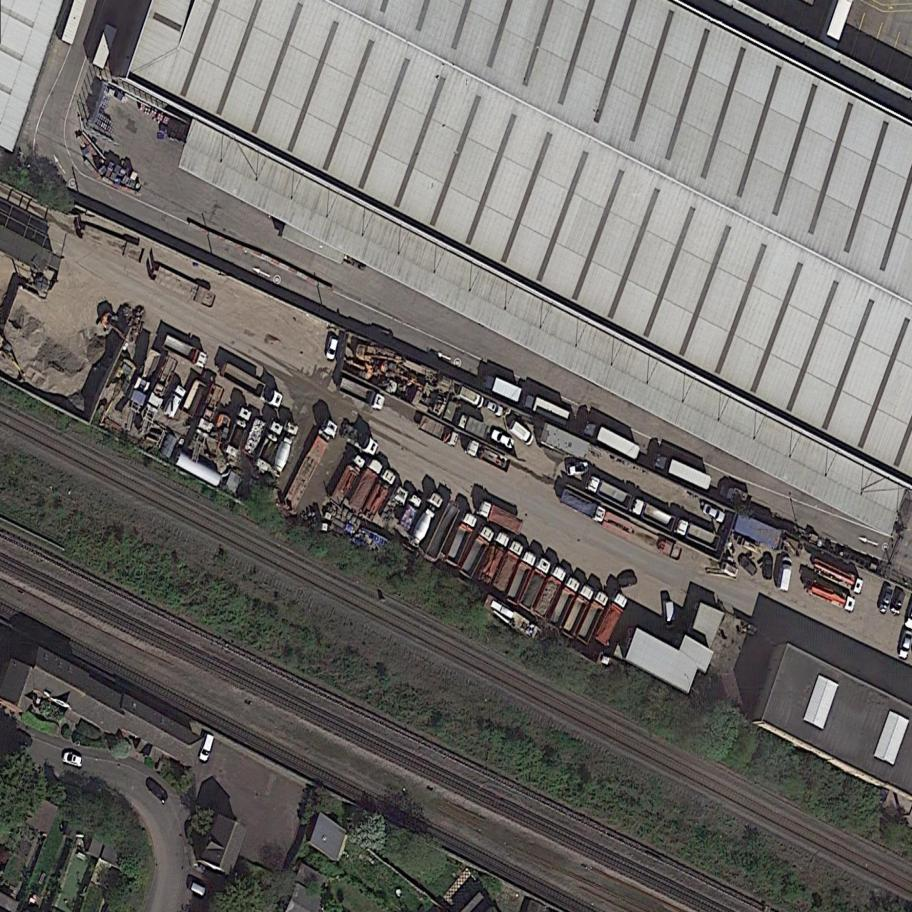large-vehicle: (278, 415, 342, 515), (600, 510, 687, 562), (478, 591, 548, 647), (216, 359, 288, 411), (577, 418, 645, 464), (472, 527, 517, 590), (649, 451, 716, 493), (343, 456, 387, 519), (531, 560, 574, 624), (404, 488, 447, 551), (488, 537, 530, 600), (572, 588, 615, 649), (327, 451, 371, 510), (557, 581, 600, 641), (455, 522, 498, 581), (358, 465, 401, 524), (807, 554, 868, 595), (591, 589, 632, 649), (442, 507, 481, 569), (516, 552, 554, 615), (799, 576, 860, 615), (503, 546, 541, 608), (143, 354, 181, 415), (546, 572, 584, 633), (265, 417, 302, 479), (581, 471, 636, 512), (474, 497, 529, 538), (518, 390, 574, 430), (556, 486, 611, 526), (129, 347, 165, 408), (334, 374, 390, 412), (462, 436, 515, 476), (627, 495, 681, 534), (159, 332, 213, 370), (193, 381, 227, 440), (253, 418, 288, 475), (222, 402, 255, 461), (336, 418, 384, 458), (672, 517, 724, 552), (414, 413, 463, 449), (479, 371, 526, 405), (394, 491, 426, 535), (161, 381, 191, 420), (455, 412, 493, 442), (453, 383, 489, 411)
small-vehicle: (142, 776, 173, 806), (505, 419, 537, 447), (776, 555, 794, 593), (489, 428, 517, 451), (197, 731, 216, 763), (737, 554, 760, 579), (876, 585, 895, 615), (701, 503, 727, 524), (889, 589, 907, 618), (186, 879, 209, 898), (325, 334, 340, 363), (662, 599, 676, 630), (565, 461, 591, 477), (483, 399, 505, 417), (61, 752, 85, 768), (763, 554, 774, 580), (617, 576, 638, 588)
